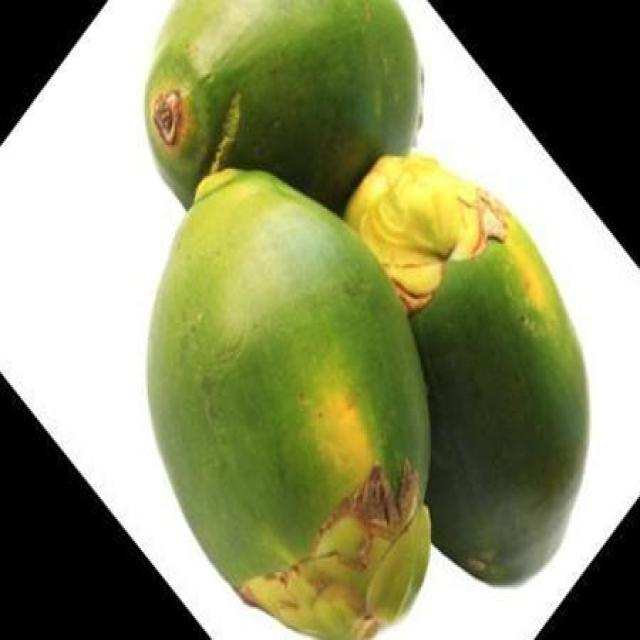good: (144, 165, 431, 638), (360, 156, 593, 590), (144, 0, 421, 218)
